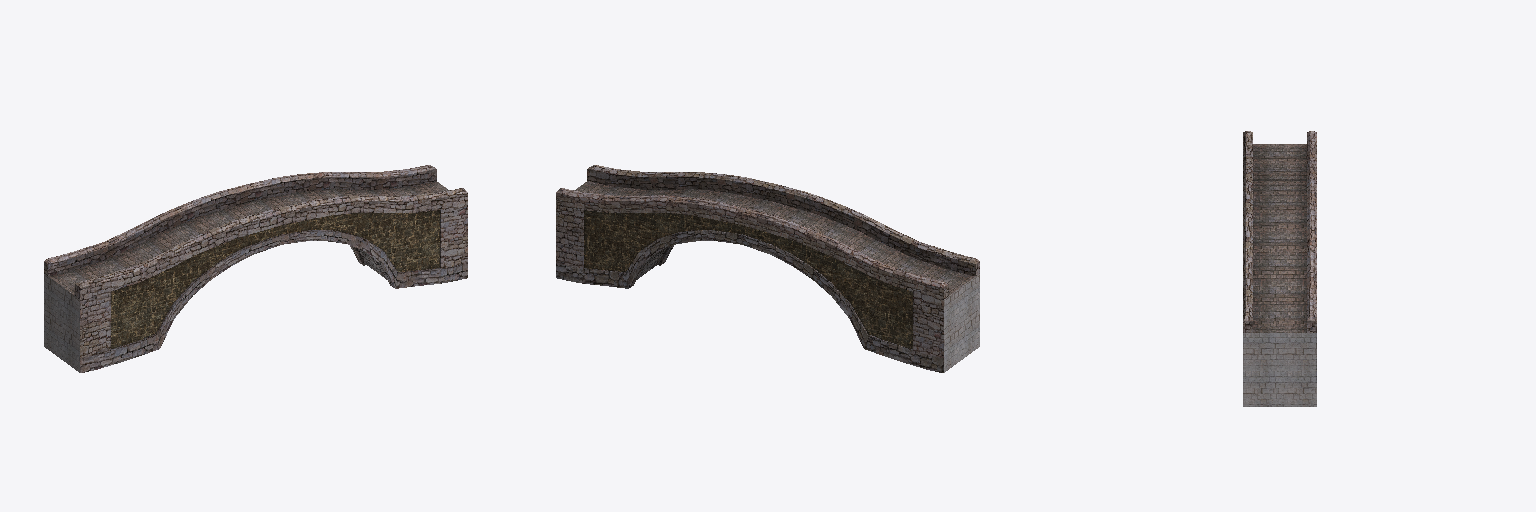
3 views of the same model, side by side, from view 1: azimuth 30°, elevation 25°; view 2: azimuth 150°, elevation 25°; view 3: azimuth 270°, elevation 25° (orthographic).
Parts seen in each view (by area): view 1: Bridge02; view 2: Bridge02; view 3: Bridge02.
Part boxes in pixels (x1,y1,x2,y2): Bridge02: (44,165,467,372); Bridge02: (556,165,979,372); Bridge02: (1243,131,1316,406).
Size of the model in its own units: 2092 by 588 by 342.
Materials: 1 (1 with a texture image).